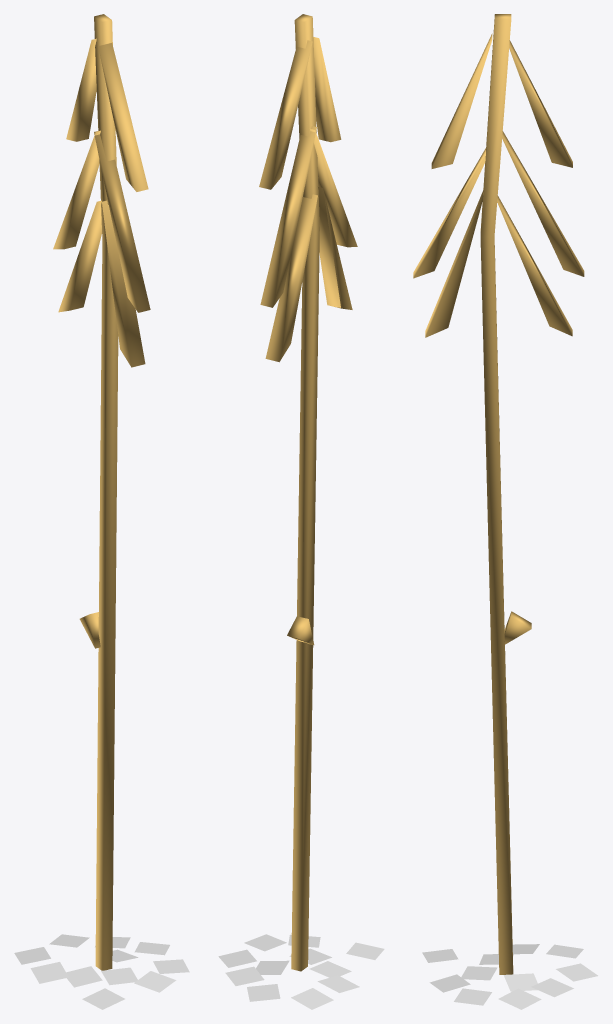
Rendered from oats.glb.
The picture shows the model from 3 angles, left to right: view 1: azimuth 30°, elevation 25°; view 2: azimuth 150°, elevation 25°; view 3: azimuth 270°, elevation 25°; orthographic projection.
Visible parts, largest first — view 1: oats, oats_copy.001, oats_copy.003, oats_copy, oats_copy.007, oats_copy.005, oats_copy.002, oats_copy.008; view 2: oats, oats_copy.008, oats_copy.006, oats_copy.010, oats_copy.009, oats_copy.007, oats_copy.001, oats_copy.002; view 3: oats, oats_copy.004, oats_copy.009, oats_copy.002, oats_copy.006, oats_copy.010.
Part boxes in pixels (x1,y1,x2,y2): oats: [53, 14, 150, 970]; oats_copy.001: [30, 962, 68, 983]; oats_copy.003: [134, 971, 176, 992]; oats_copy: [66, 966, 102, 987]; oats_copy.007: [82, 988, 124, 1009]; oats_copy.005: [101, 967, 137, 985]; oats_copy.002: [153, 959, 189, 973]; oats_copy.008: [14, 947, 50, 964]; oats: [259, 14, 357, 971]; oats_copy.008: [291, 988, 333, 1009]; oats_copy.006: [247, 984, 280, 1001]; oats_copy.010: [225, 966, 264, 985]; oats_copy.009: [218, 949, 256, 967]; oats_copy.007: [346, 942, 384, 959]; oats_copy.001: [317, 975, 359, 992]; oats_copy.002: [244, 934, 286, 951]; oats: [413, 14, 584, 974]; oats_copy.004: [503, 973, 537, 991]; oats_copy.009: [498, 988, 541, 1009]; oats_copy.002: [454, 988, 491, 1005]; oats_copy.006: [556, 963, 597, 981]; oats_copy.010: [531, 978, 573, 997].
Size of the model in its own units: 0.1287 by 0.8579 by 0.1505.
